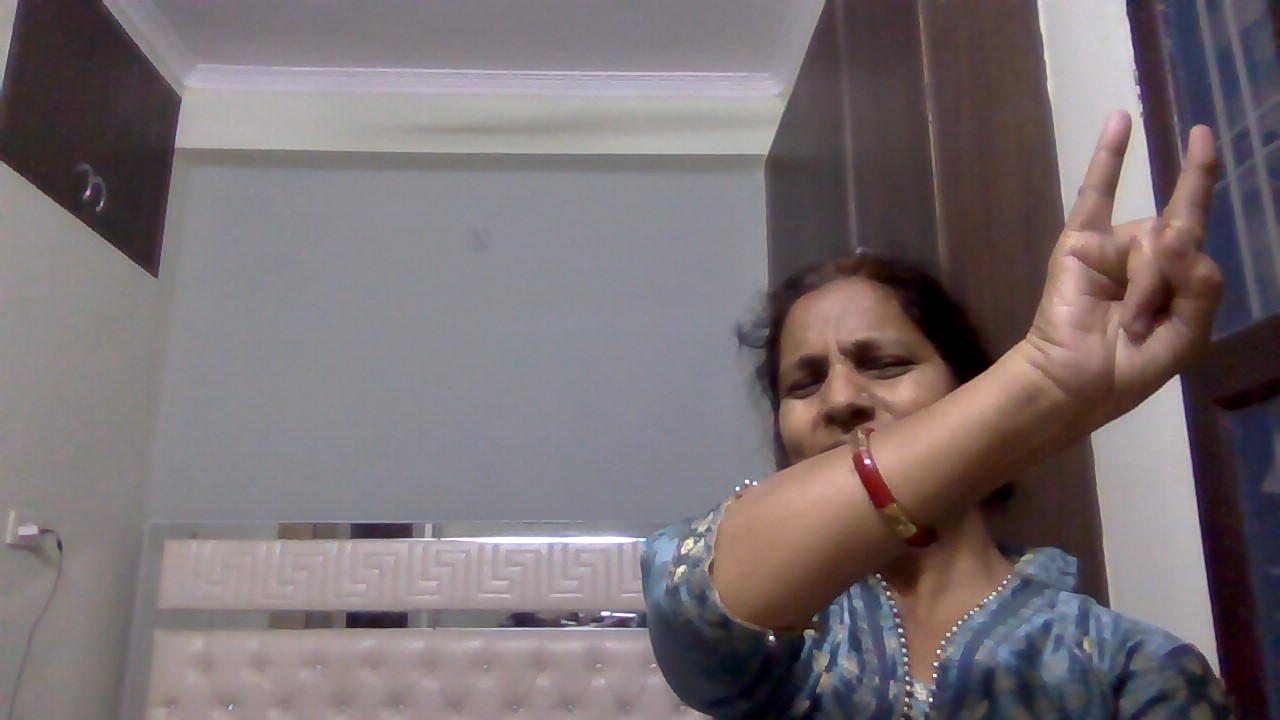Select All: (1031, 96, 1232, 432)
